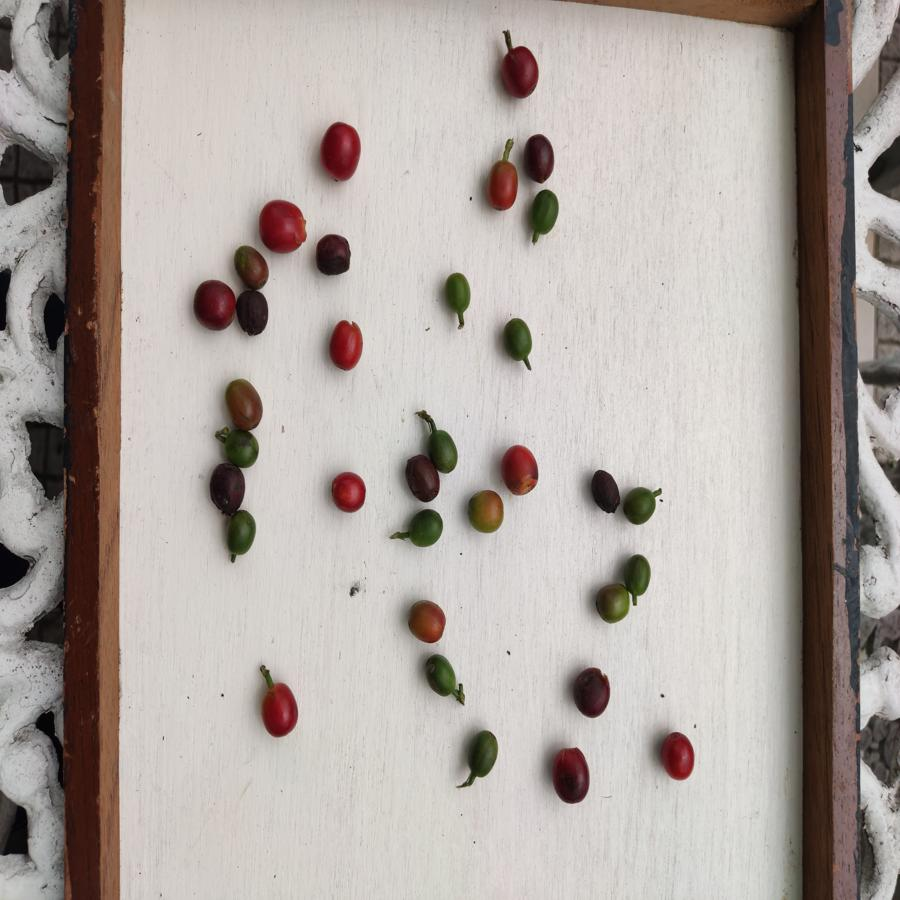Inmaduro: (465, 726, 499, 783), (403, 508, 448, 551), (424, 652, 459, 703), (224, 510, 261, 556), (499, 315, 534, 362), (594, 582, 630, 627), (426, 425, 459, 474), (222, 429, 262, 468), (527, 187, 560, 234), (624, 485, 659, 529), (622, 552, 653, 598), (444, 271, 472, 315)
Maduro: (317, 120, 365, 183), (259, 194, 308, 255), (499, 441, 548, 495), (499, 43, 542, 101), (259, 685, 305, 738), (329, 317, 364, 374), (483, 158, 520, 211), (662, 729, 699, 780), (331, 470, 367, 515)
Pinton: (227, 375, 269, 429), (406, 597, 450, 646), (467, 488, 503, 538)
Sobremaduro: (548, 745, 592, 805), (190, 277, 236, 333), (209, 460, 245, 520), (573, 664, 611, 719), (403, 450, 441, 504), (235, 291, 273, 342), (233, 241, 271, 292), (520, 133, 555, 183), (317, 232, 355, 278), (588, 466, 621, 518)
